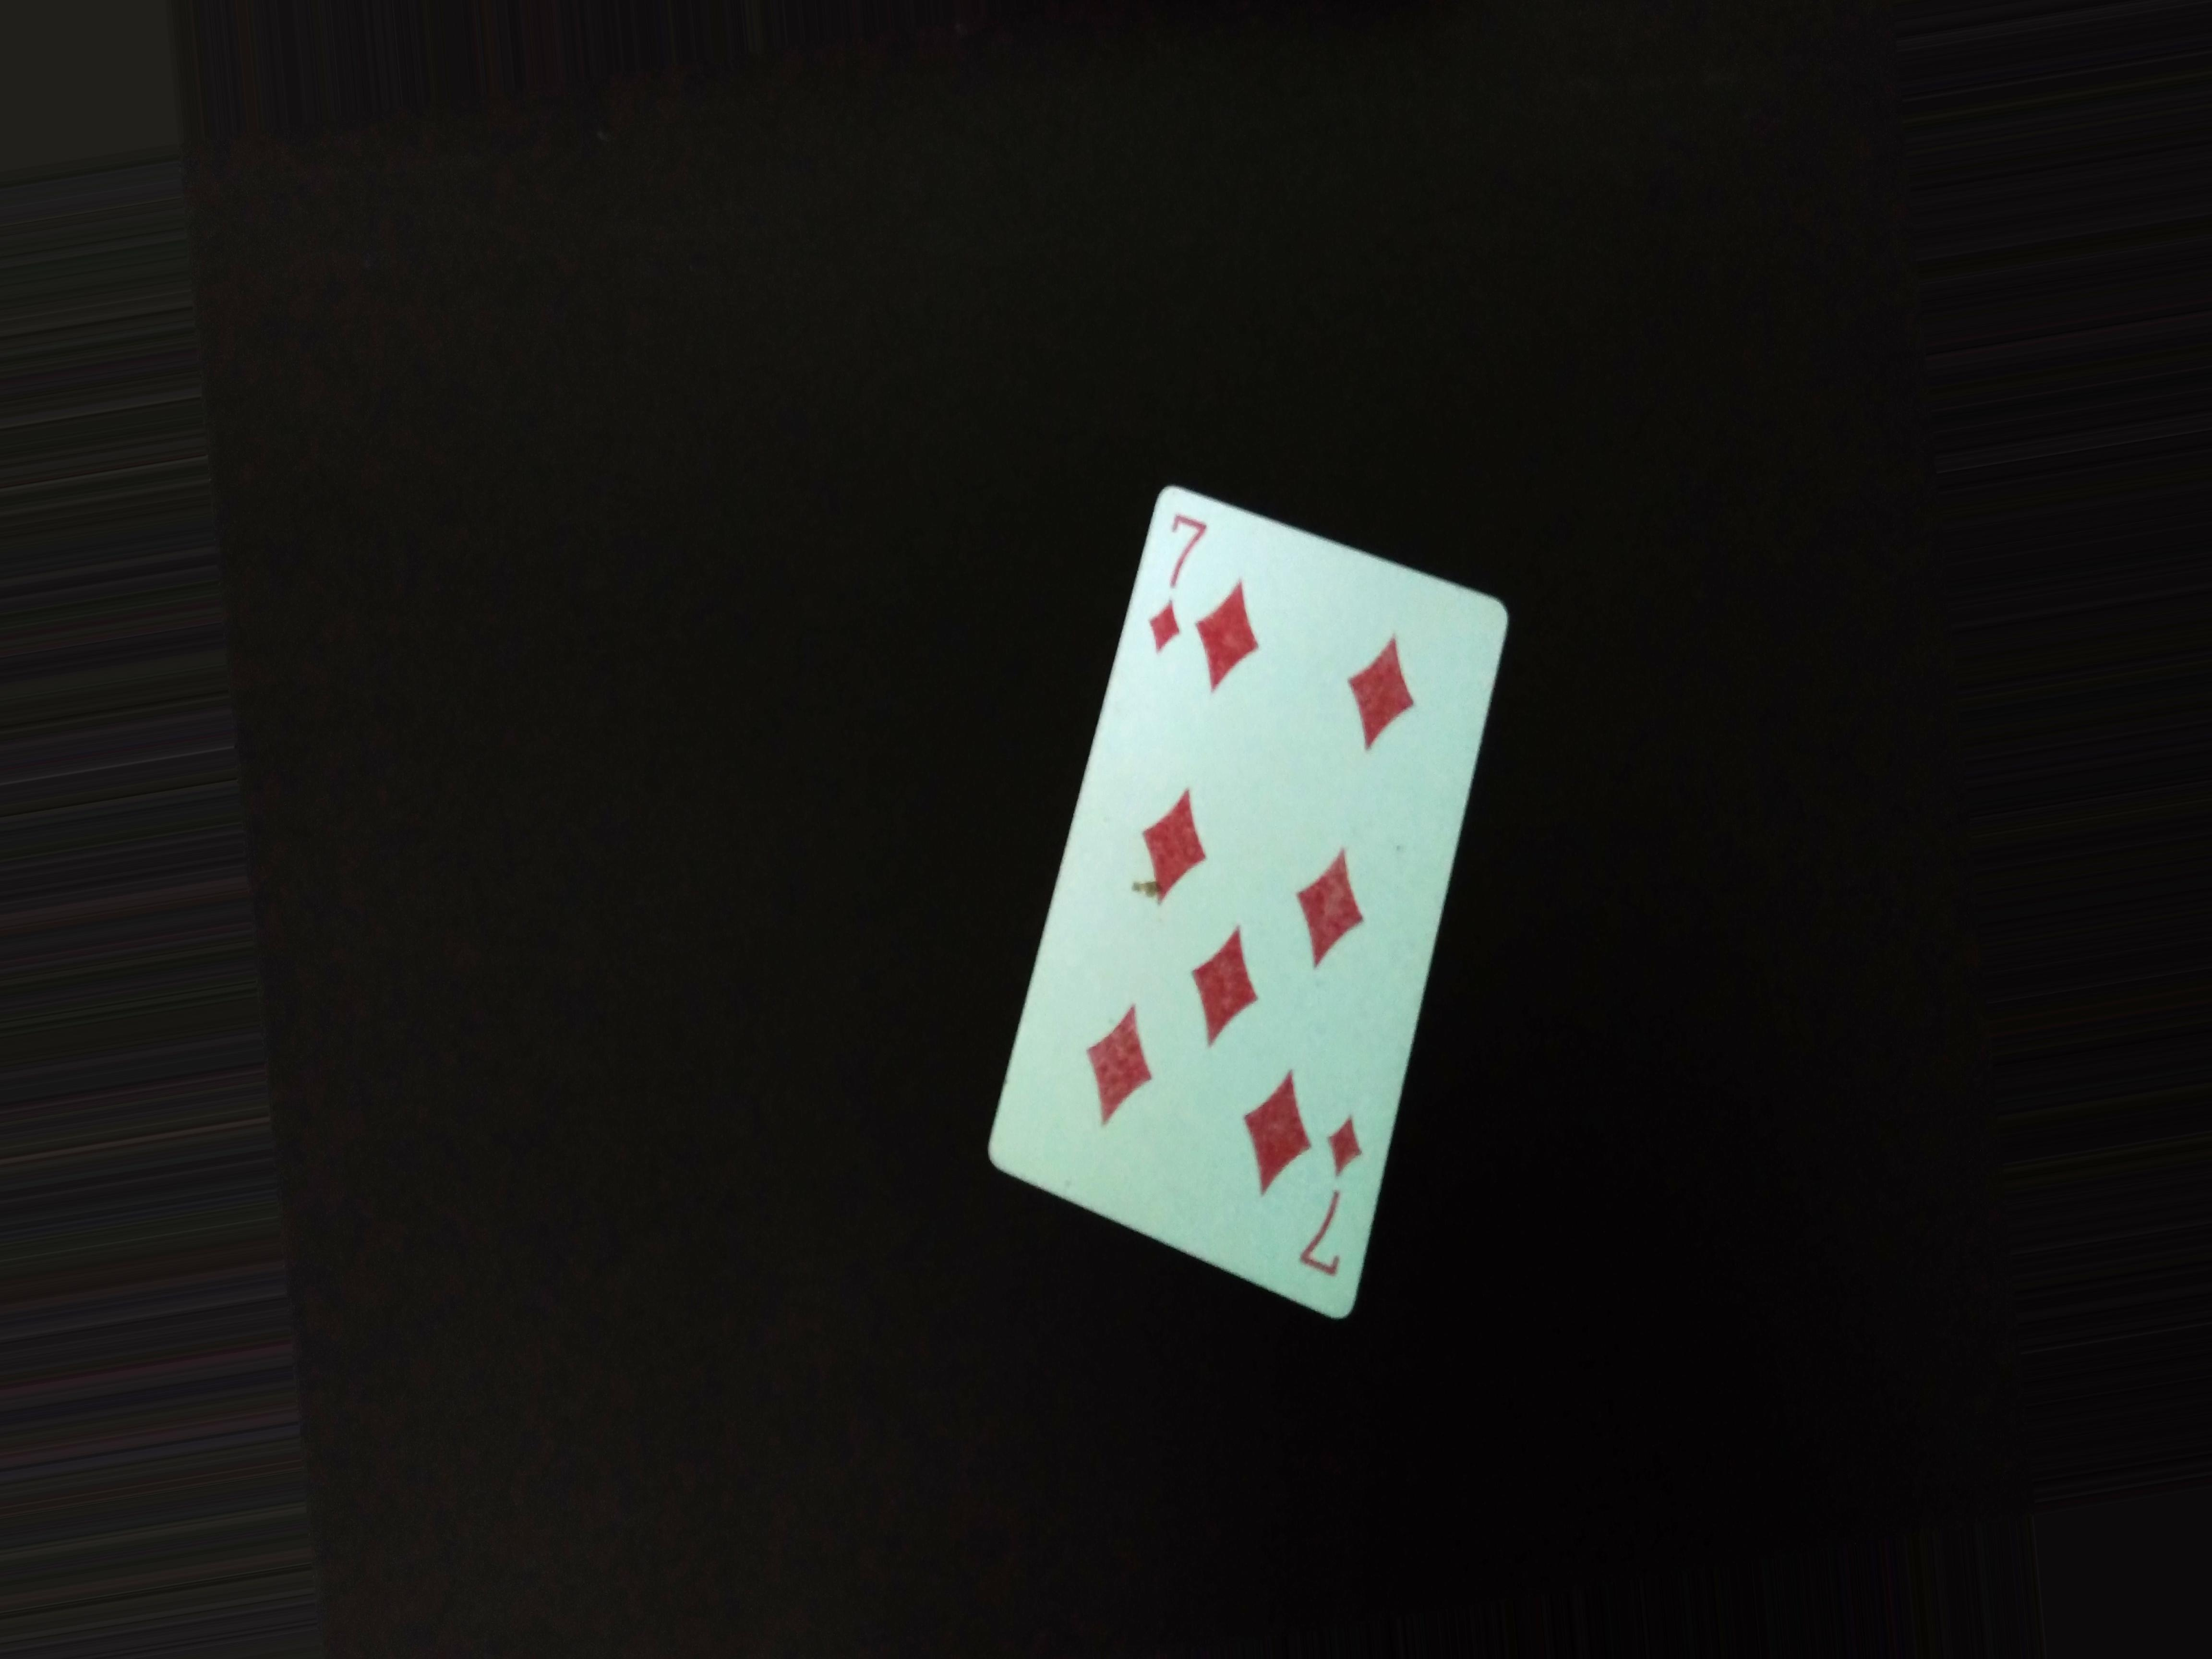7D: (1125, 500, 1217, 671)
